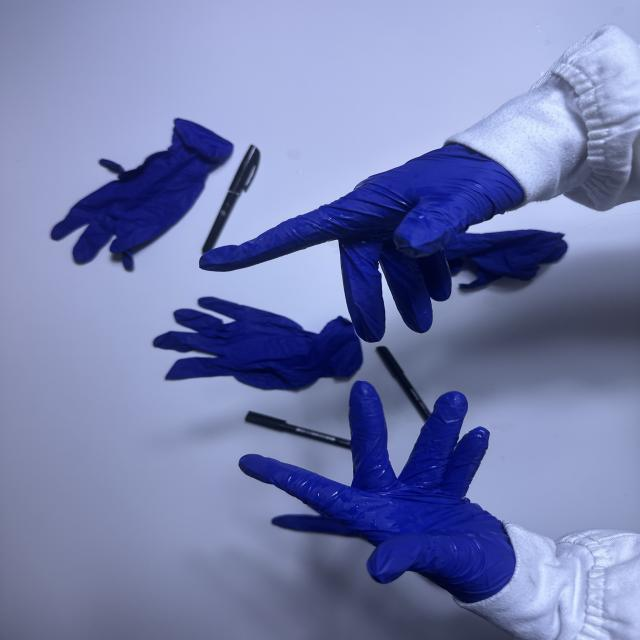gloves_contaminated: (200, 145, 523, 342), (240, 382, 515, 604)
